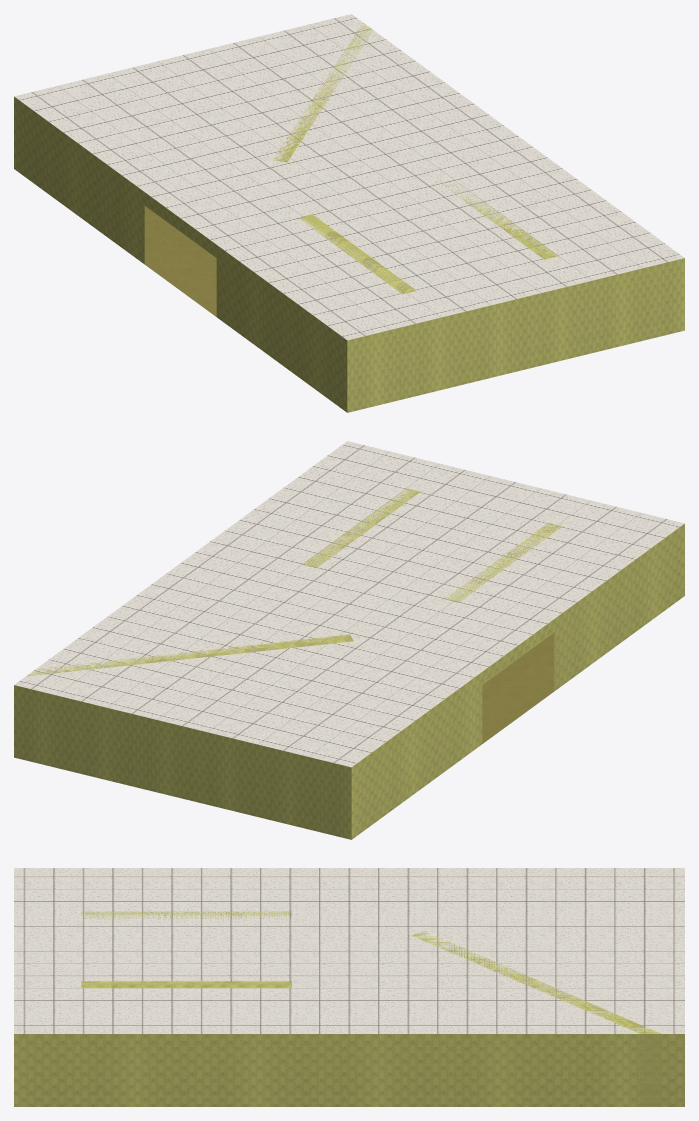
Rendered from Backrooms.fbx.
3 views of the same model, one above another, from view 1: azimuth 30°, elevation 25°; view 2: azimuth 150°, elevation 25°; view 3: azimuth 270°, elevation 25° (orthographic).
Parts seen in each view (by area): view 1: Zona1Techo, Zona1ParedesExteriores, Zona1ParedesInteriores, Zona1Piso; view 2: Zona1Techo, Zona1ParedesExteriores, Zona1ParedesInteriores, Zona1Piso; view 3: Zona1Techo, Zona1ParedesExteriores, Zona1ParedesInteriores.
Boxes of the visible parts, bbox=[...] form: Zona1Techo: bbox=[14, 14, 684, 340]; Zona1ParedesExteriores: bbox=[14, 96, 684, 412]; Zona1ParedesInteriores: bbox=[66, 23, 558, 294]; Zona1Piso: bbox=[144, 206, 216, 316]; Zona1Techo: bbox=[14, 441, 684, 767]; Zona1ParedesExteriores: bbox=[14, 523, 684, 839]; Zona1ParedesInteriores: bbox=[27, 488, 562, 800]; Zona1Piso: bbox=[482, 633, 554, 743]; Zona1Techo: bbox=[14, 868, 684, 1033]; Zona1ParedesExteriores: bbox=[14, 1034, 684, 1106]; Zona1ParedesInteriores: bbox=[81, 911, 660, 1033].
Bounding box in the file's own units: 2046 × 420 × 3500.
4 materials, 4 textured.
